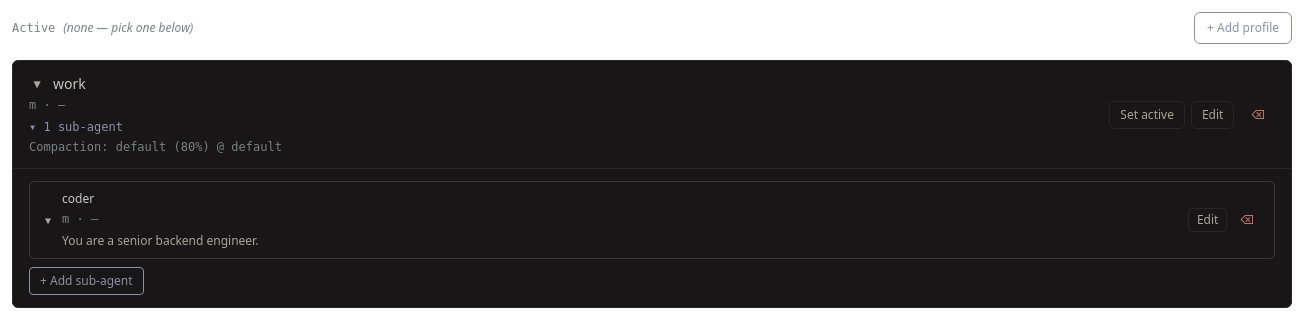
Test: ProfilesSection › collapses and re-expands an individual sub-agent profile
Click the button with test id "expand-sub-agent-btn-work-coder" at (48, 220), box [42,214,54,226]
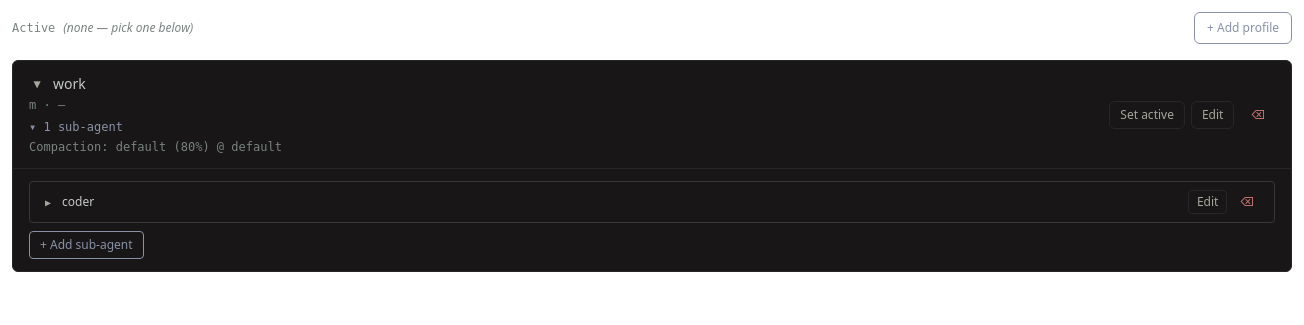
Check: the button with test id "expand-sub-agent-btn-work-coder" is collapsed
Click the button with test id "expand-sub-agent-btn-work-coder" at (48, 202), box [42,196,54,208]
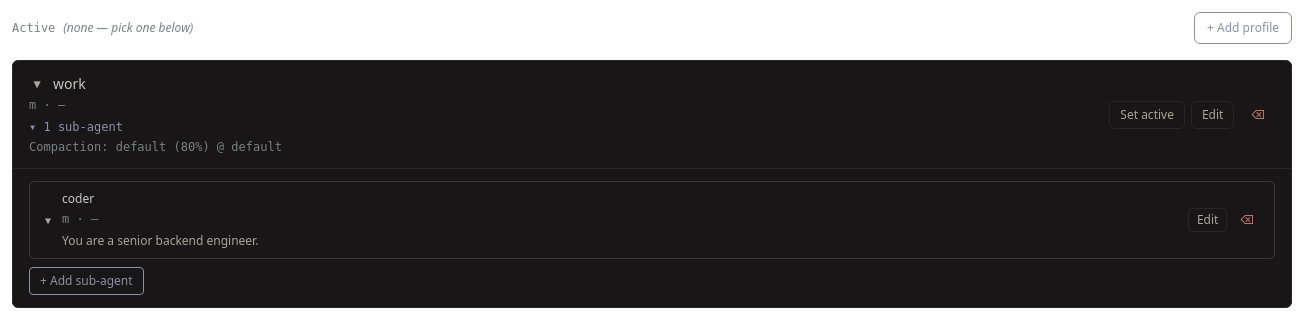
Check: the element with test id "sub-agent-details-work-coder" is shown, box [62,212,258,249]
Check: the button with test id "expand-sub-agent-btn-work-coder" is expanded, box [42,214,54,226]
